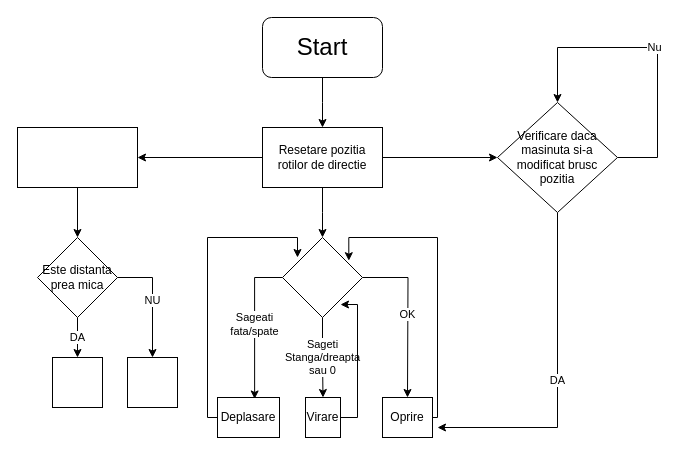
This 683x455 diagram has some shape labels left out. Here are the shapes that lost their labels. From the top down, the centre of each, then its label:
(x=77, y=157): Masurare distanta fata de obiectele din fata
(x=322, y=277): Comenzi Telecomanda
(x=77, y=382): Porneste LED
(x=152, y=382): Opreste LED
